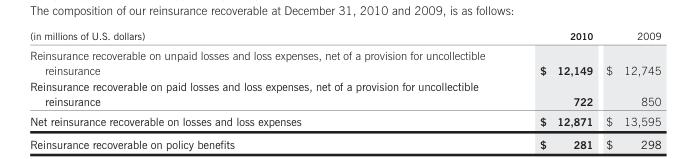table: (29, 29, 660, 127)
table column: (29, 29, 511, 127), (511, 29, 598, 127), (598, 29, 660, 127)
table column header: (29, 29, 660, 44)
table row: (29, 44, 660, 77), (29, 77, 660, 110), (29, 110, 660, 127), (29, 29, 660, 44)
